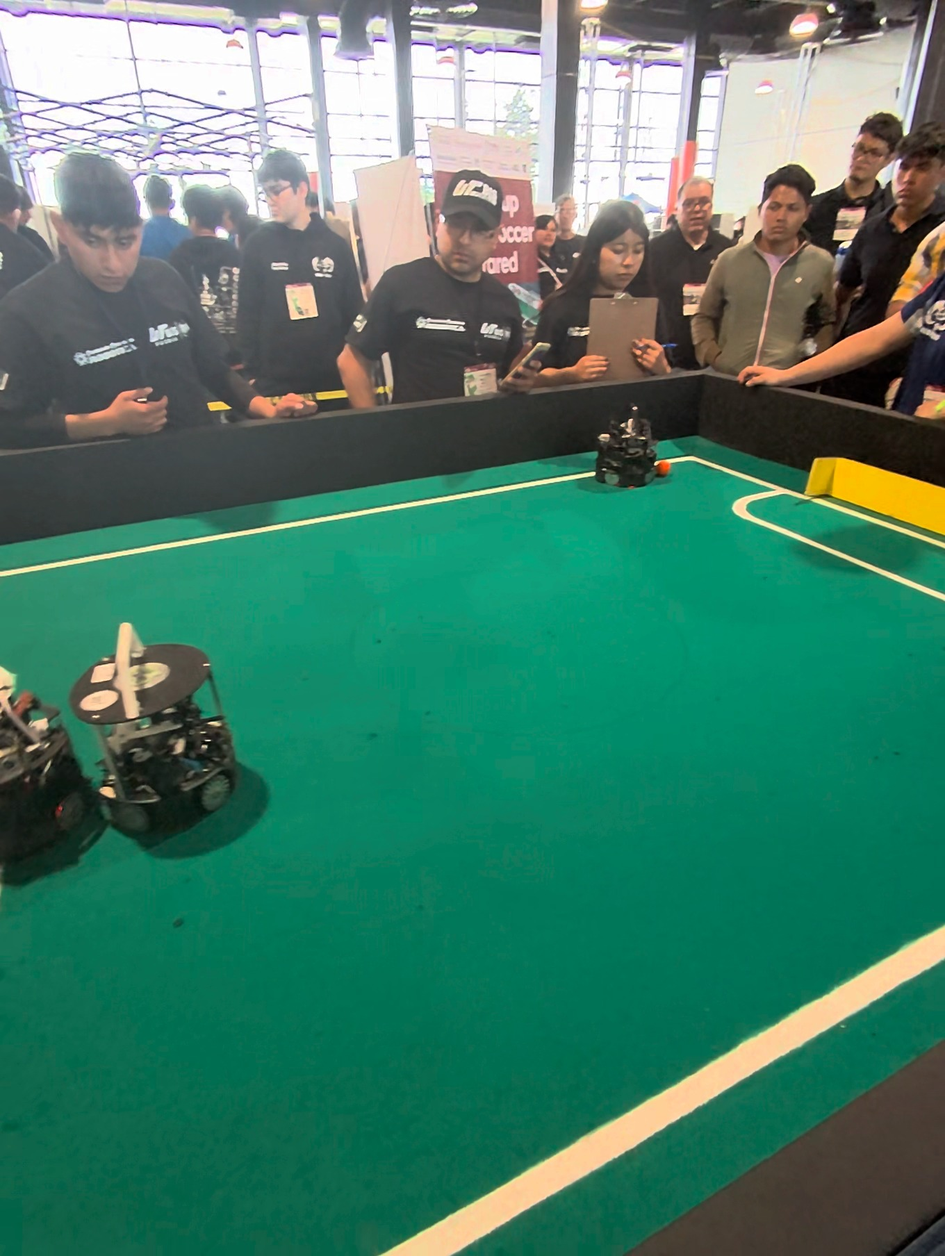Robot: (83, 610, 260, 861), (0, 651, 89, 894), (593, 401, 668, 494)
pelota: (648, 456, 686, 498)
